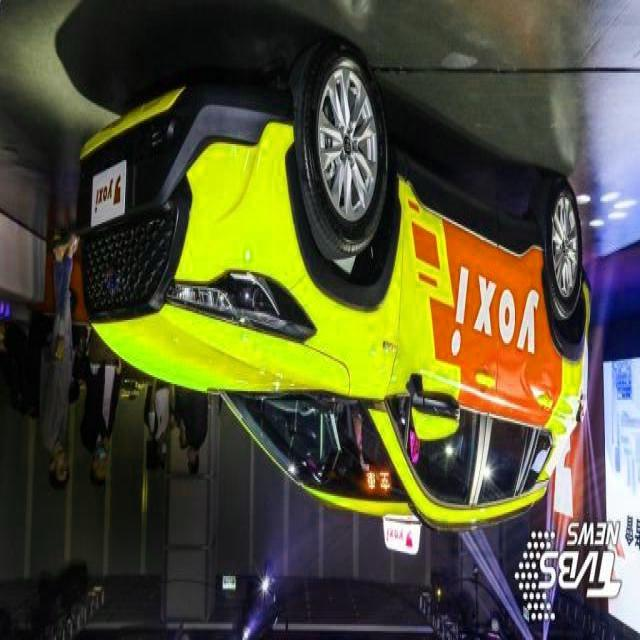taxi: (59, 1, 599, 566)
